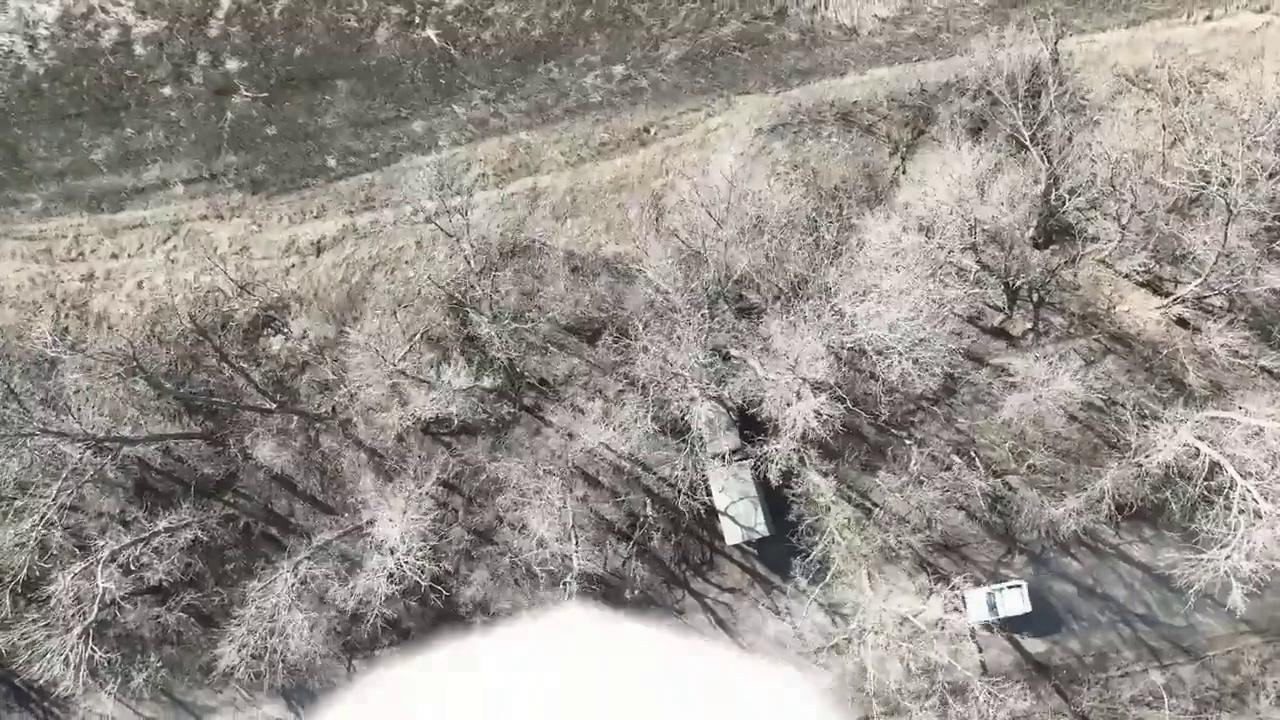vehicle: (687, 398, 776, 546), (958, 576, 1034, 620)
